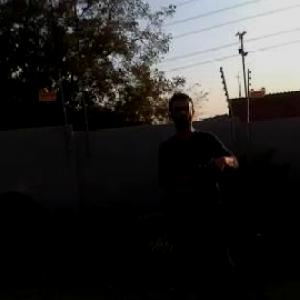follow: (154, 88, 254, 299)
